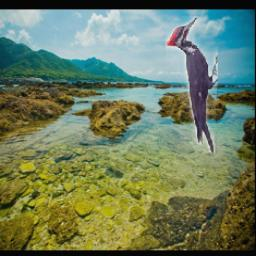Woodpecker: (166, 17, 218, 153)
